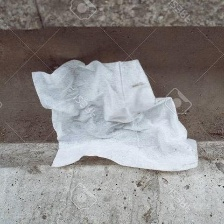tissue: (23, 52, 204, 178)
